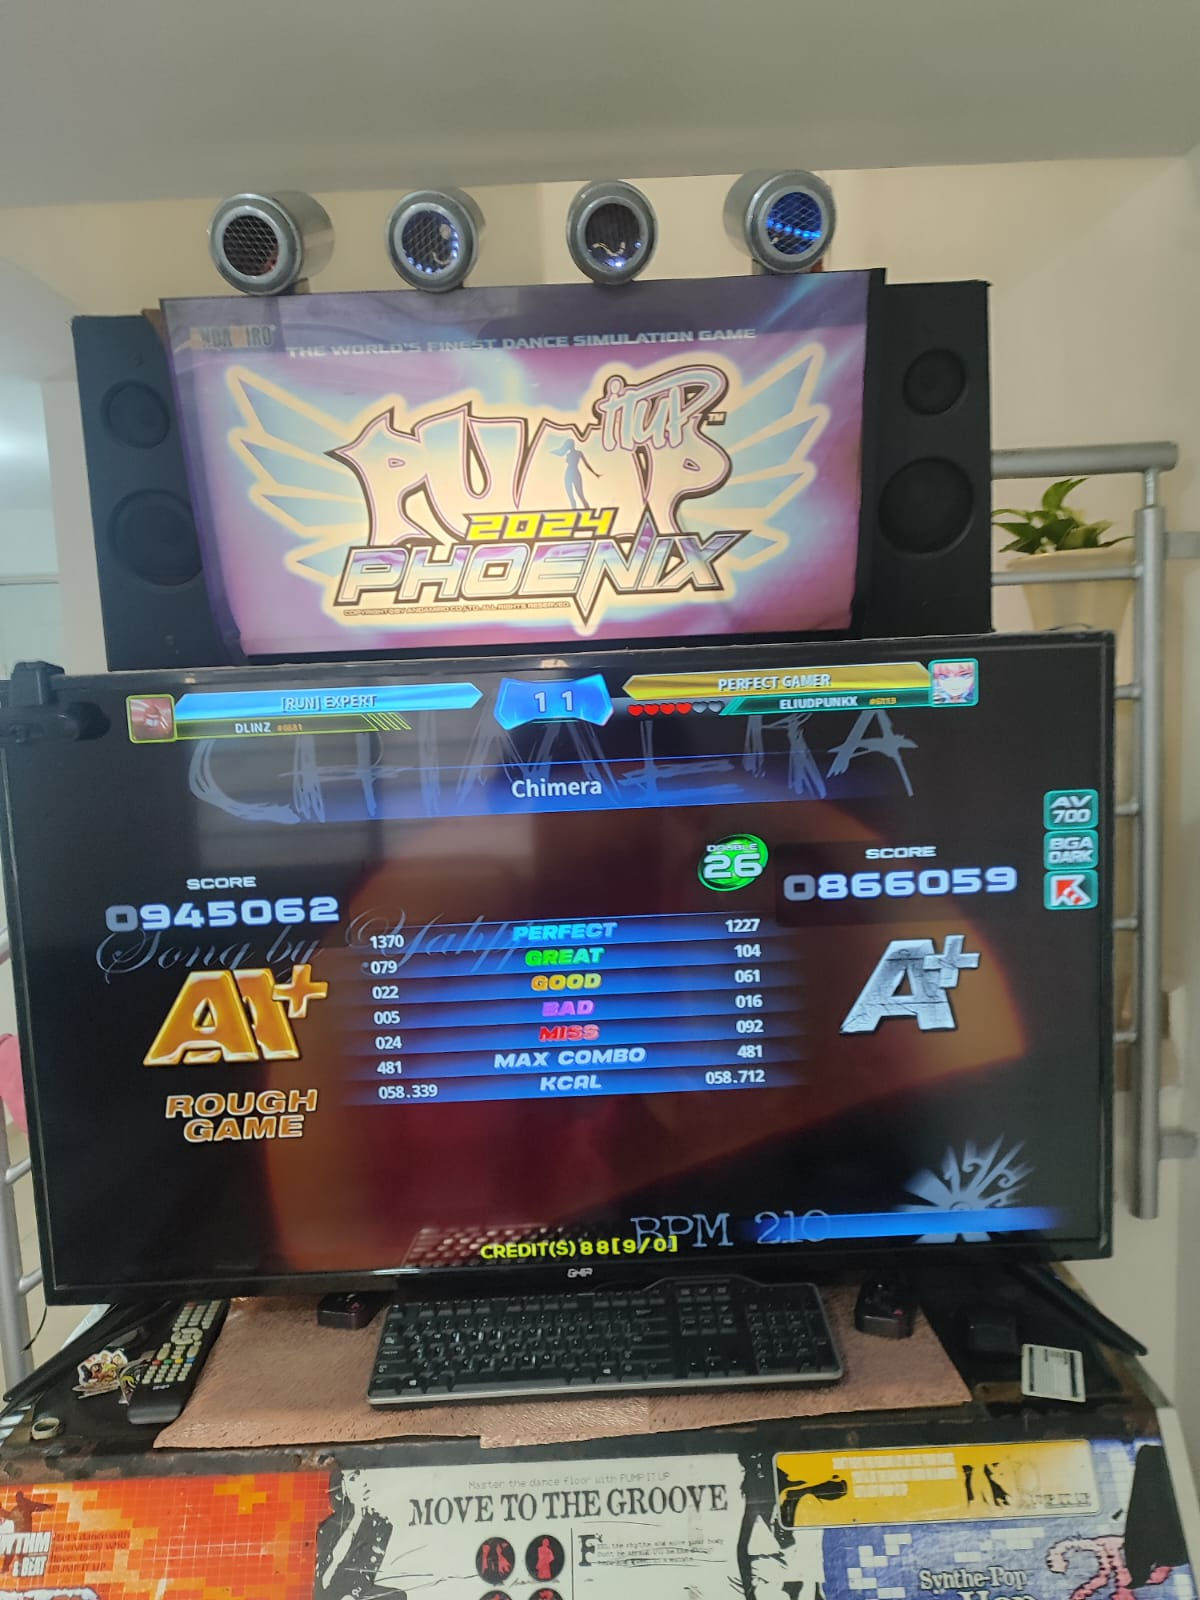difficulty: (686, 808, 771, 922)
fullscore: (389, 663, 1116, 1259)
rank: (805, 932, 988, 1043)
score: (763, 831, 1022, 932)
song_name: (476, 763, 673, 814)
